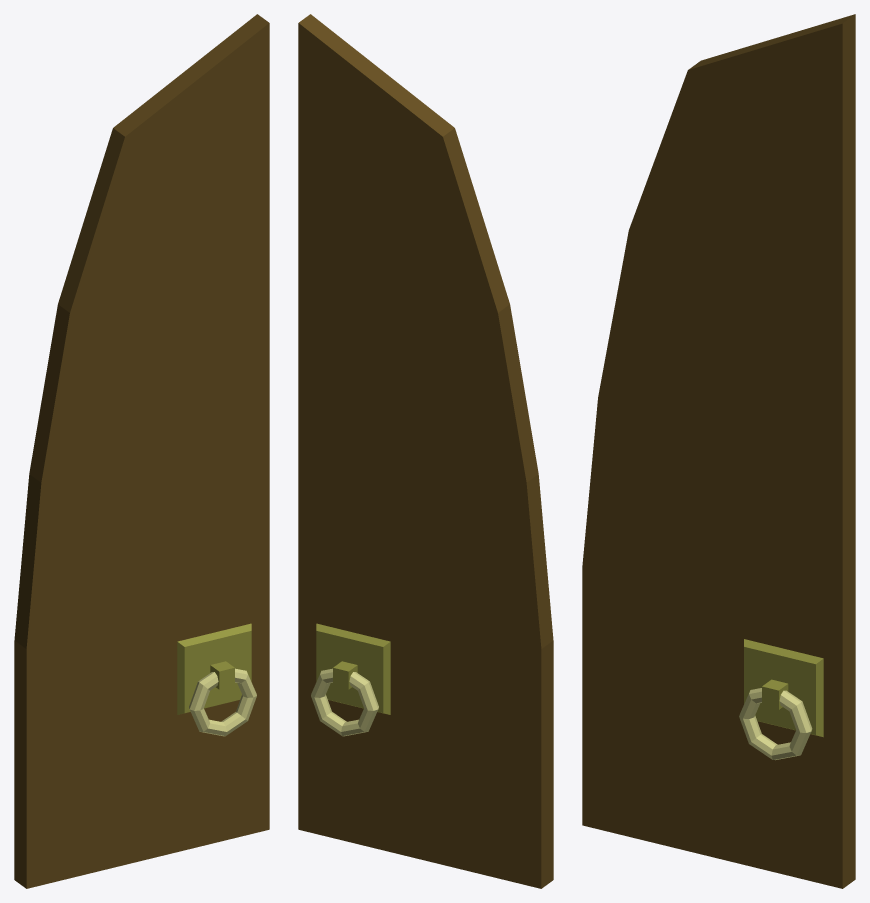
File: TbDoorBig.fbx
The picture shows the model from 3 angles, left to right: view 1: azimuth 30°, elevation 25°; view 2: azimuth 150°, elevation 25°; view 3: azimuth 330°, elevation 25°; orthographic projection. The views are drawn at different scales.
Parts seen in each view (by area): view 1: Cube; view 2: Cube; view 3: Cube.
Part boxes in pixels (x1=…): Cube: x1=14, y1=14, x2=269, y2=888; Cube: x1=298, y1=14, x2=553, y2=888; Cube: x1=582, y1=14, x2=855, y2=888.
Size of the model in its own units: 2.32 by 7.36 by 0.6134.
